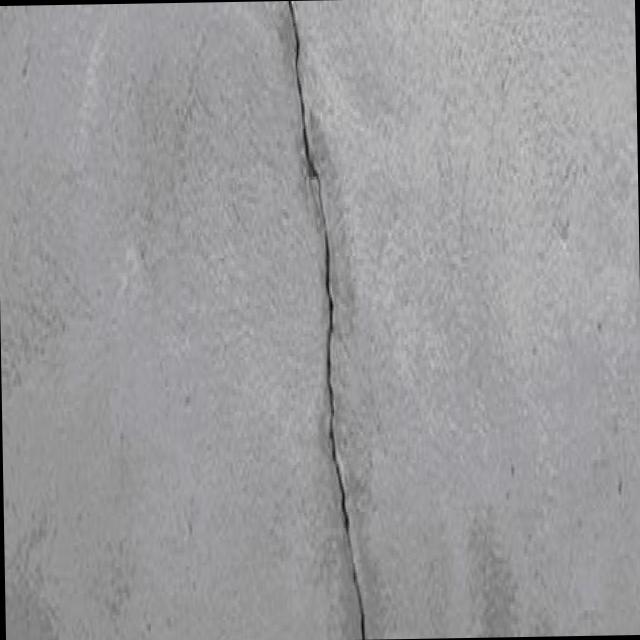crack: (324, 228, 366, 639), (286, 4, 325, 223)
